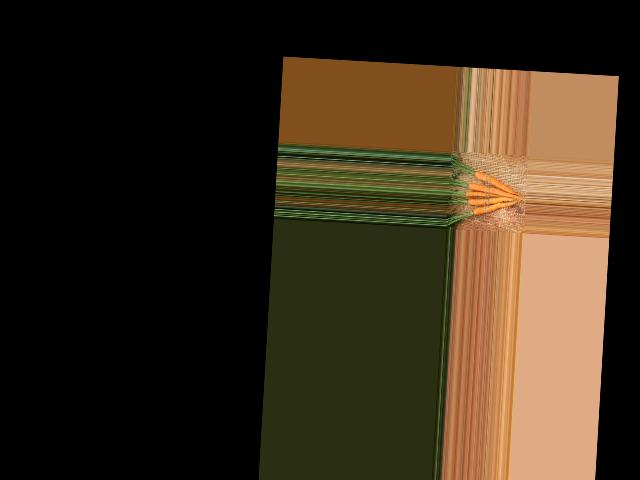carrot: (472, 199, 515, 218)
